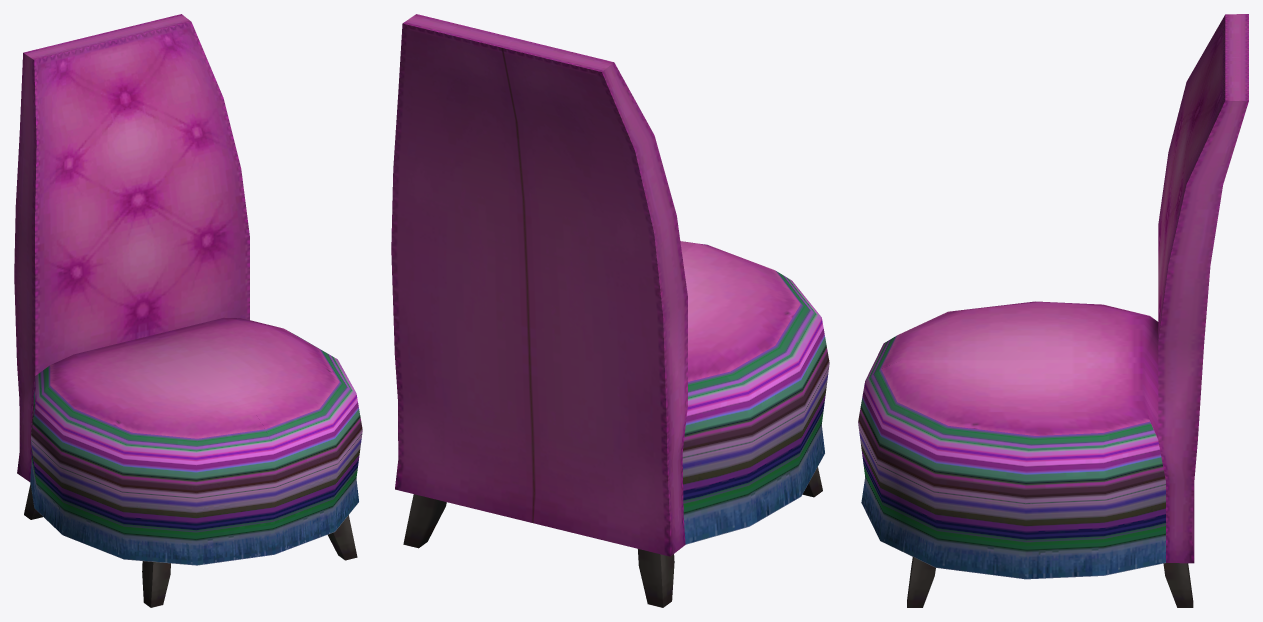
Rendered from furni_0200614_02.FBX.
The picture shows the model from 3 angles, left to right: view 1: azimuth 30°, elevation 25°; view 2: azimuth 150°, elevation 25°; view 3: azimuth 270°, elevation 25°; orthographic projection. The views are drawn at different scales.
Parts seen in each view (by area): view 1: furni_0200614_02; view 2: furni_0200614_02; view 3: furni_0200614_02.
Part boxes in pixels (x1=…): furni_0200614_02: x1=14, y1=14, x2=362, y2=607; furni_0200614_02: x1=391, y1=14, x2=829, y2=607; furni_0200614_02: x1=858, y1=14, x2=1248, y2=607.
Bounding box in the file's own units: 78.77 × 116 × 83.48.
Materials: 1 (1 with a texture image).
